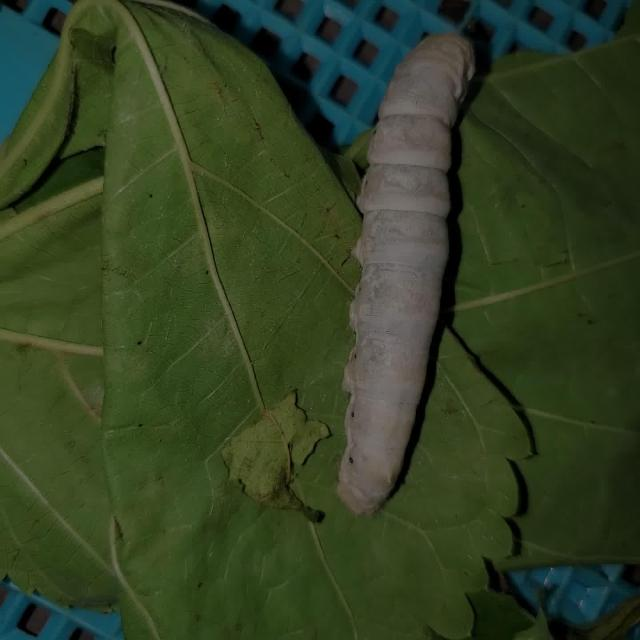Grasserie: (322, 11, 511, 544)
